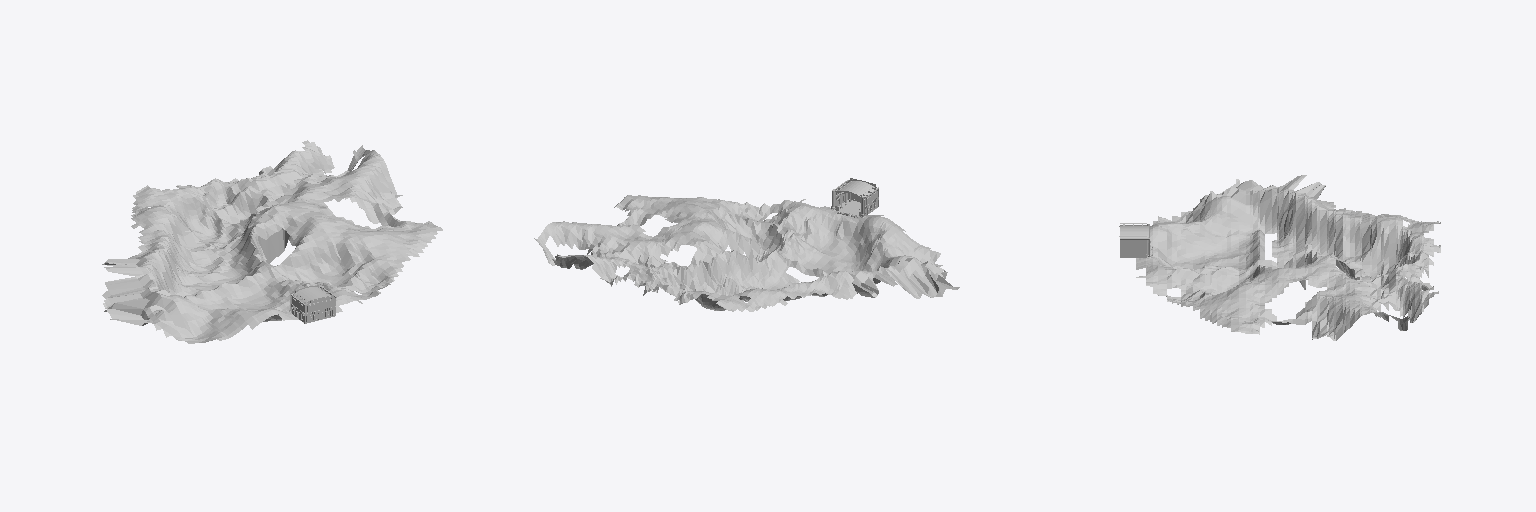
The model's file is lowpoly4.obj.
3 views of the same model, side by side, from view 1: azimuth 30°, elevation 25°; view 2: azimuth 150°, elevation 25°; view 3: azimuth 270°, elevation 25° (orthographic).
Parts seen in each view (by area): view 1: Terrain_09_50000_Terrain_50000; view 2: Terrain_09_50000_Terrain_50000; view 3: Terrain_09_50000_Terrain_50000.
Part boxes in pixels (x1,y1,x2,y2): Terrain_09_50000_Terrain_50000: (102,140,442,343); Terrain_09_50000_Terrain_50000: (534,195,959,311); Terrain_09_50000_Terrain_50000: (1136,175,1440,340).
Bounding box in the file's own units: 1650 × 247 × 1353.